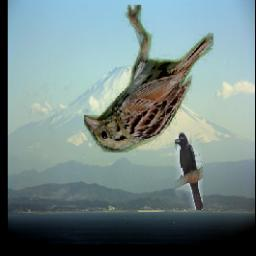Crow: (174, 133, 202, 211)
Sparrow: (84, 5, 213, 152)
